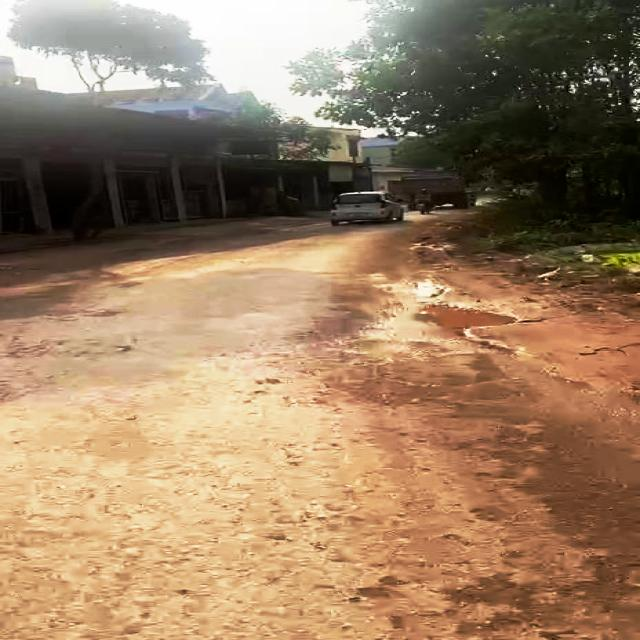pothole: (414, 300, 527, 356)
